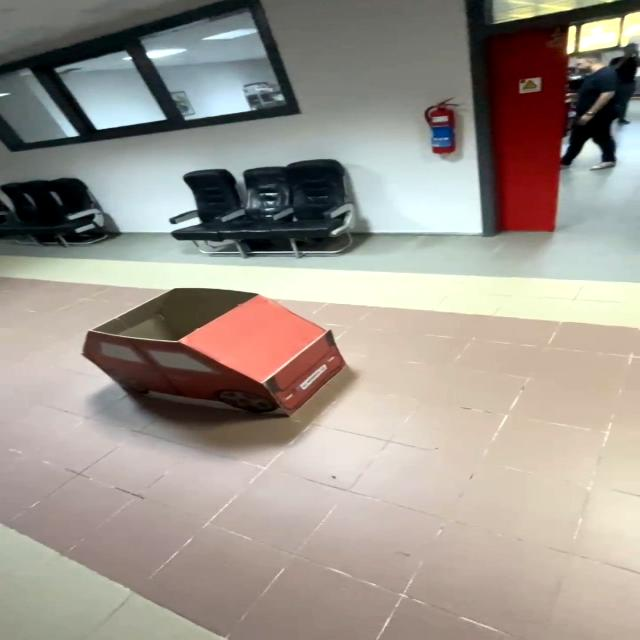red_car: (70, 278, 383, 446)
